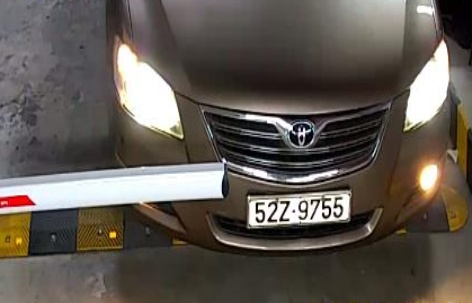plate: (249, 185, 350, 234)
